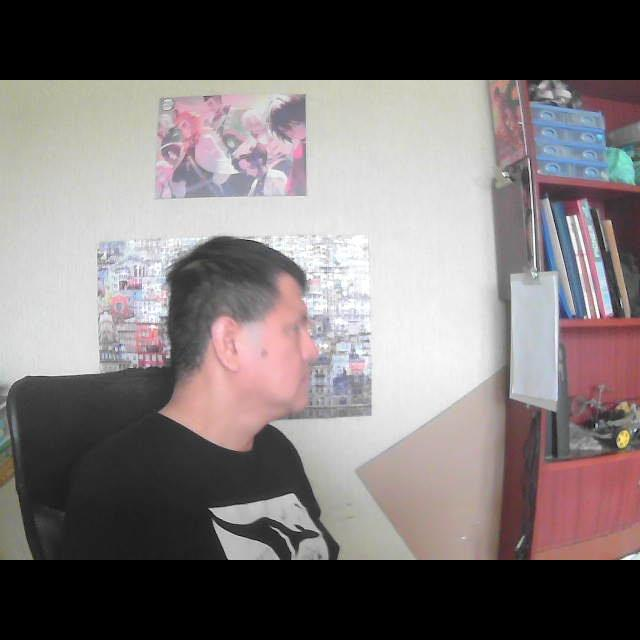cesar: (154, 222, 340, 460)
